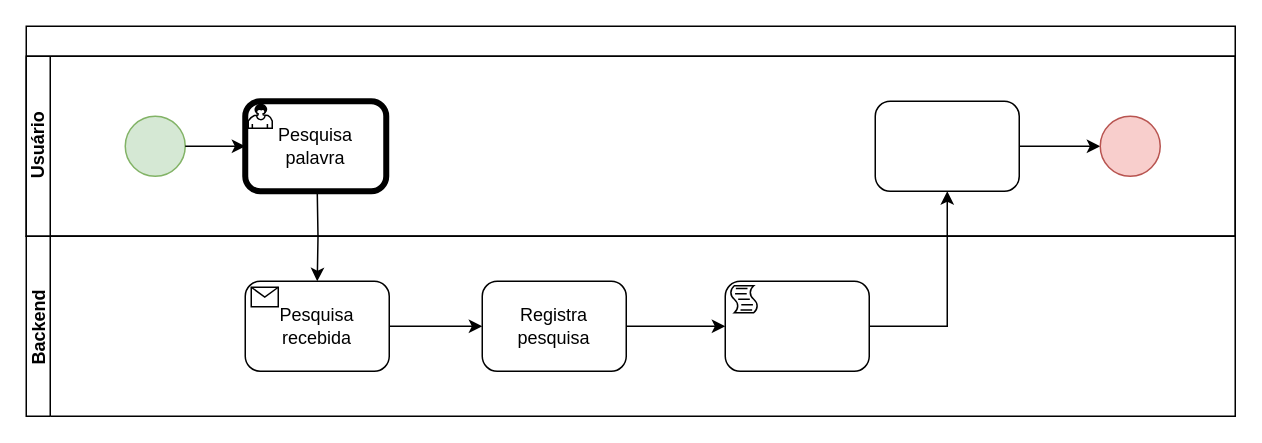
The diagram is 1262 pixels wide and 443 high, and some of its shapes have lost their labels. Each missing label, with the centre of its shape:
Efetua a pesquisa: point (796, 325)
Visualiza resultado: point (946, 145)
